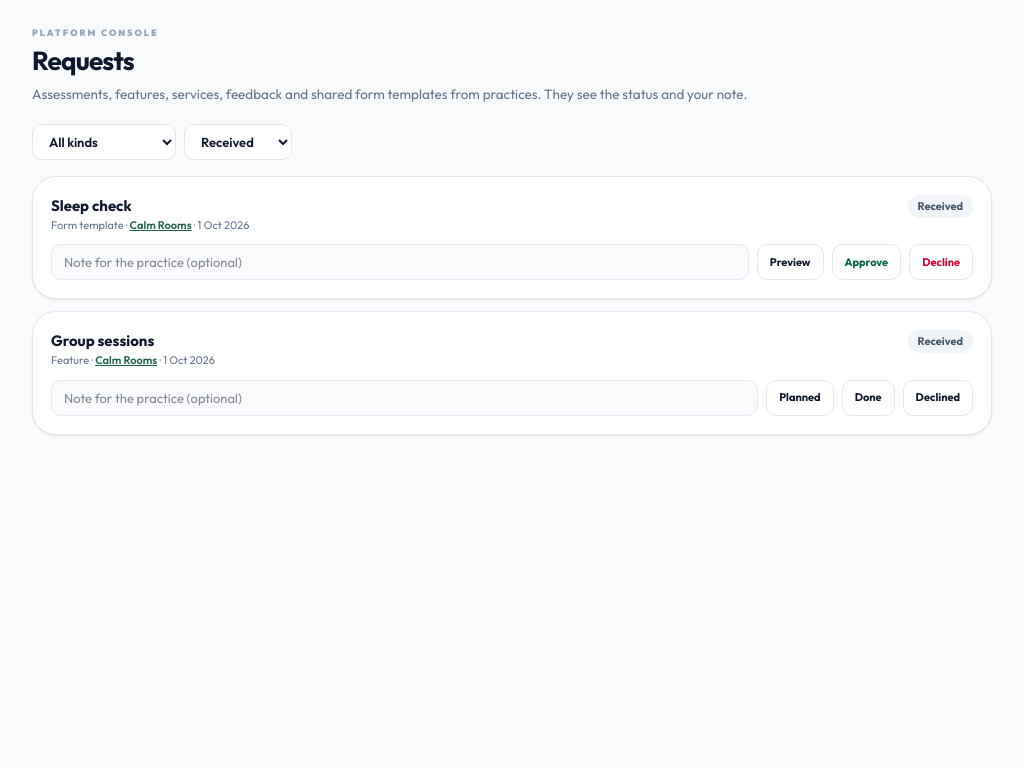
Test: reviewing shared templates › previews the questions and the real practice
Click the button "Preview" at (790, 262), box [757, 244, 824, 280]
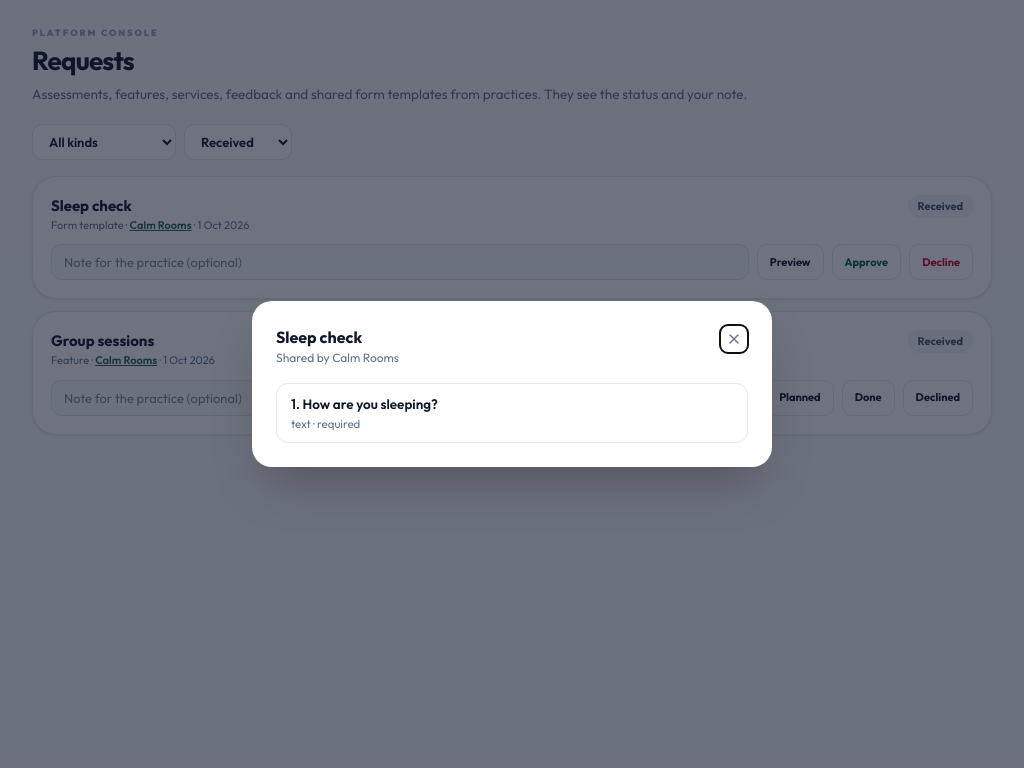
Result: the text "1. How are you sleeping?" is shown at [291, 395, 438, 413]
Result: the text "Shared by Calm Rooms" is shown at [276, 349, 399, 367]
